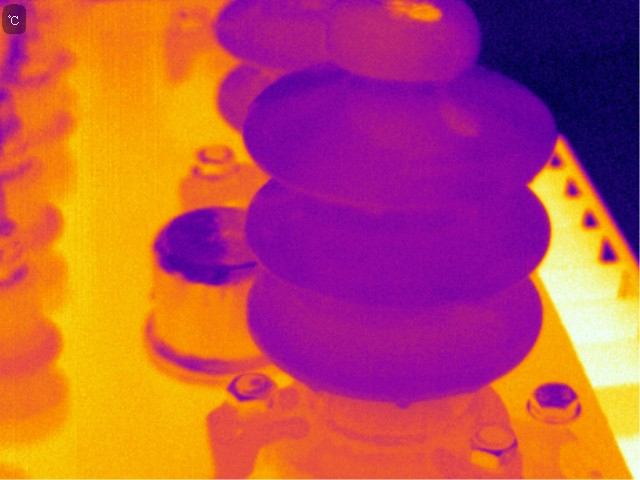Oil: (328, 4, 476, 78), (349, 95, 426, 152), (426, 90, 492, 145), (376, 1, 457, 40), (392, 395, 414, 412)
